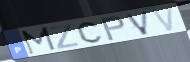C: (76, 20, 105, 44)
M: (20, 26, 58, 56)
P: (99, 14, 127, 42)
V: (150, 5, 176, 33), (124, 9, 150, 36)
Z: (48, 23, 80, 50)
